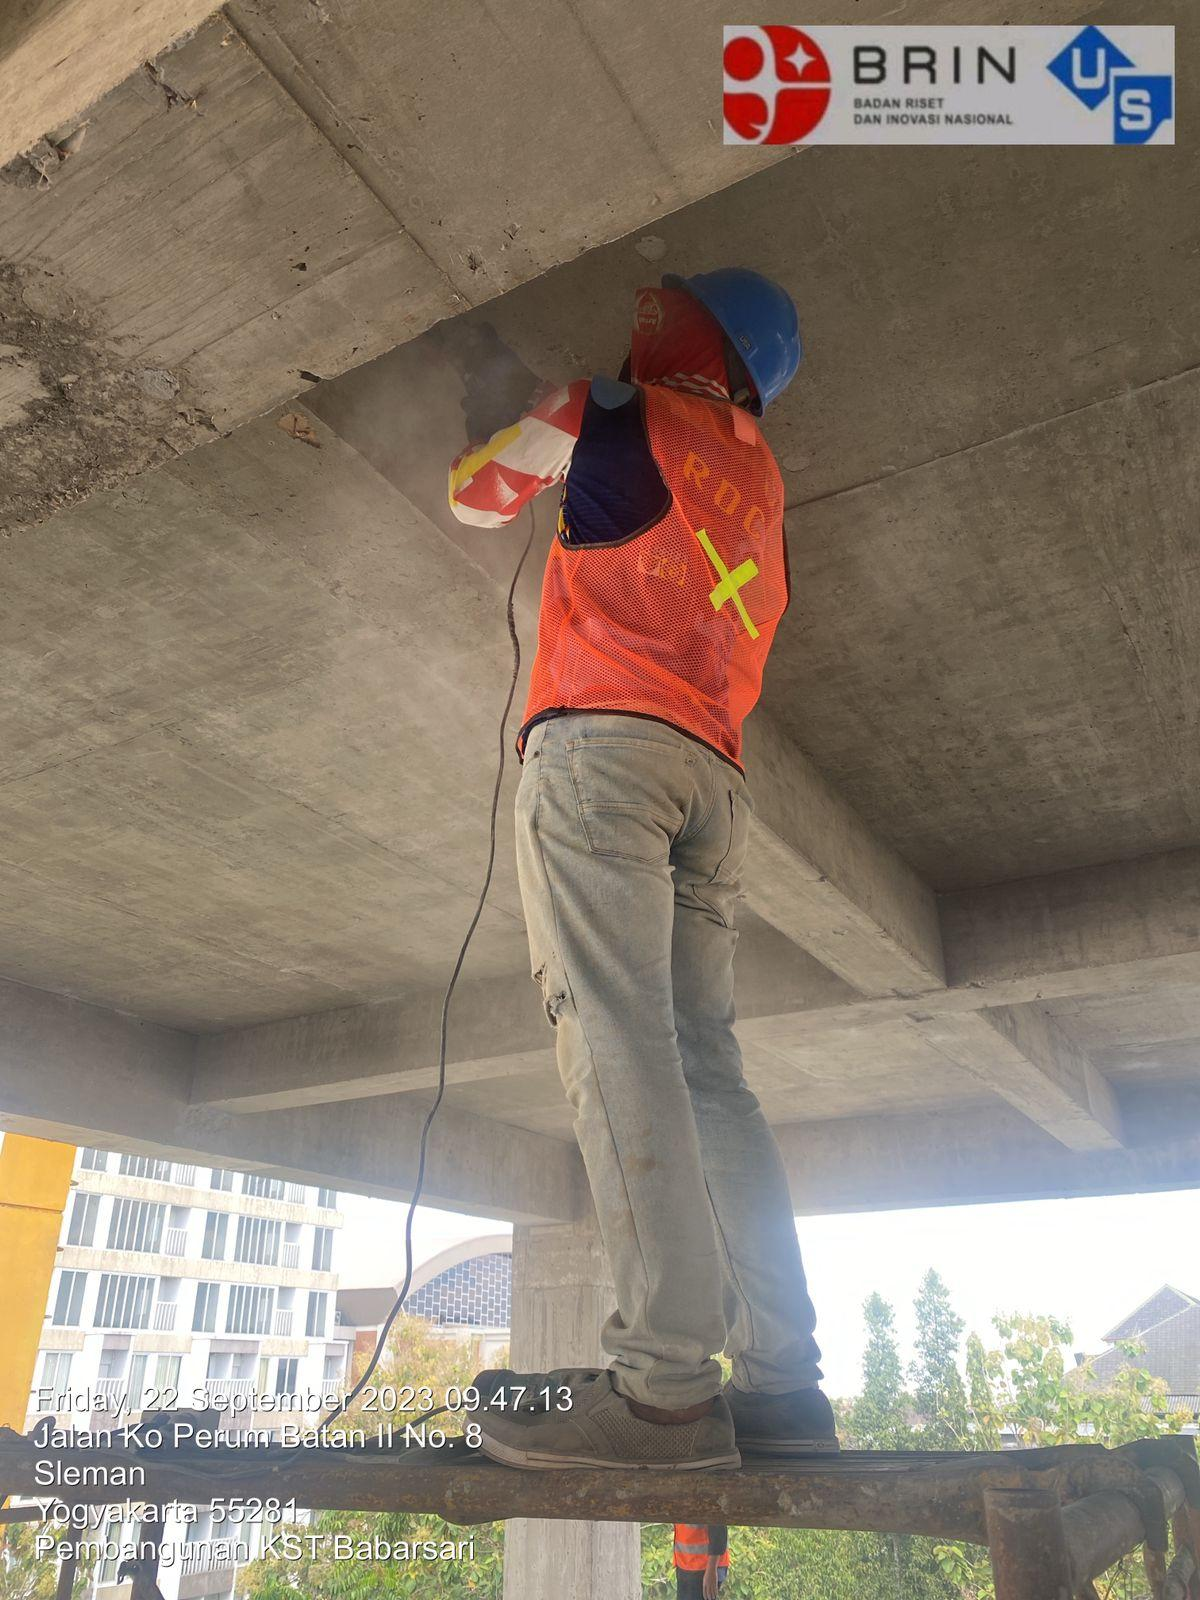hat: (596, 202, 881, 451)
vest: (461, 362, 805, 842)
